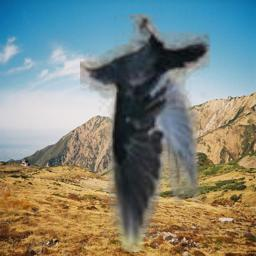Crow: (80, 14, 210, 252)
